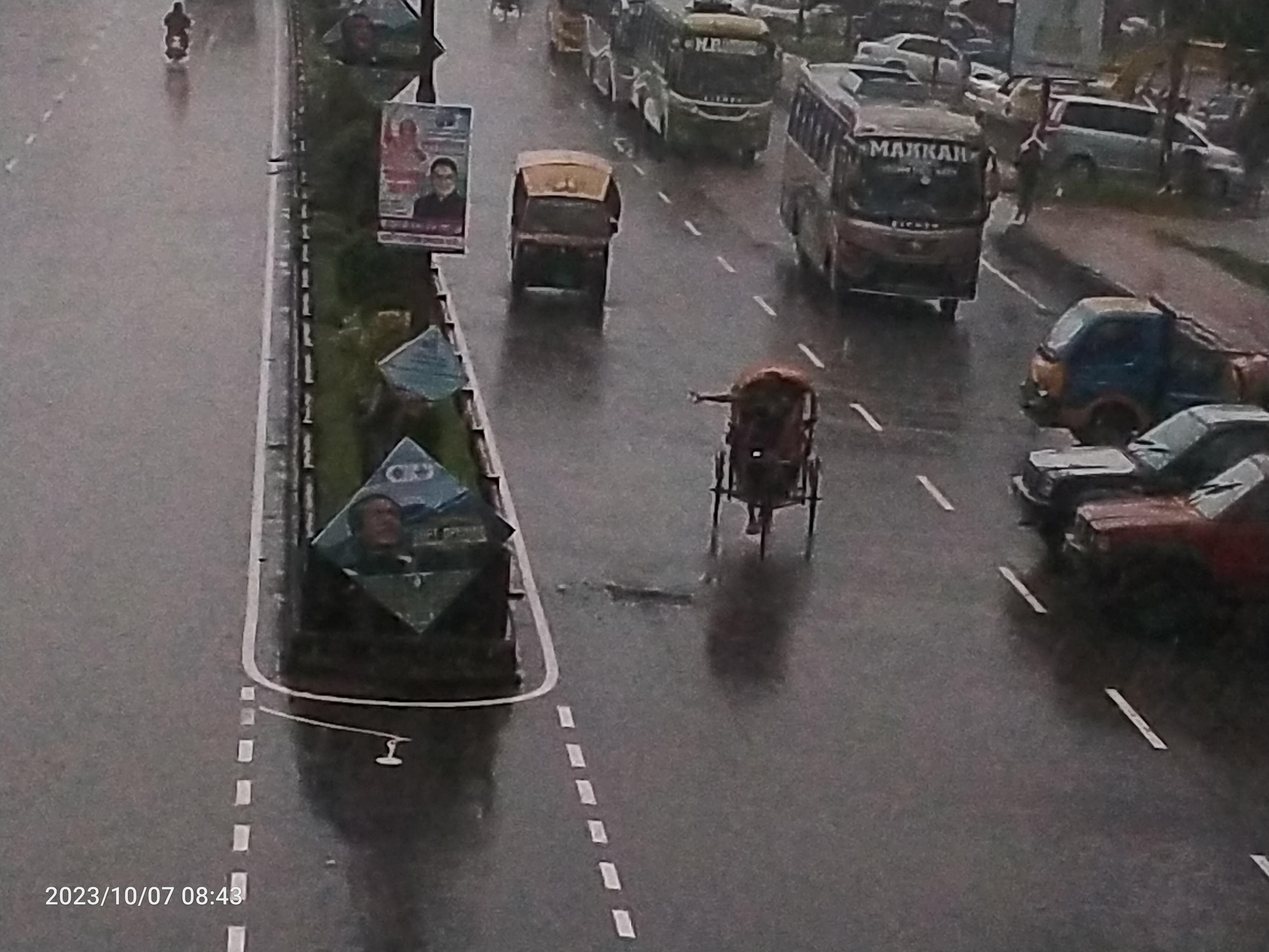Bike: (141, 0, 210, 84)
Bus: (757, 36, 1026, 343), (588, 0, 792, 168)
Car: (668, 325, 867, 575), (477, 116, 636, 352), (1029, 90, 1267, 228), (845, 10, 1030, 118)
Truck: (1008, 411, 1269, 650), (1011, 266, 1269, 454)
